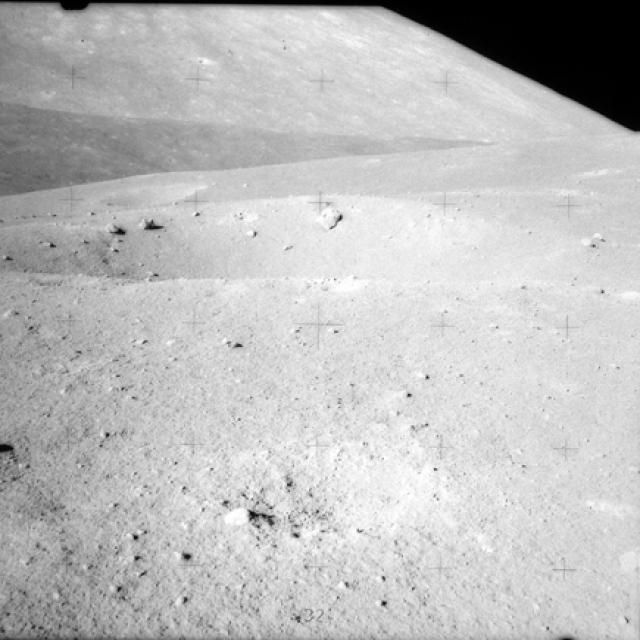crater: (1, 181, 638, 293)
rock: (308, 195, 357, 234), (216, 499, 252, 531), (578, 227, 612, 250), (136, 207, 160, 233)
